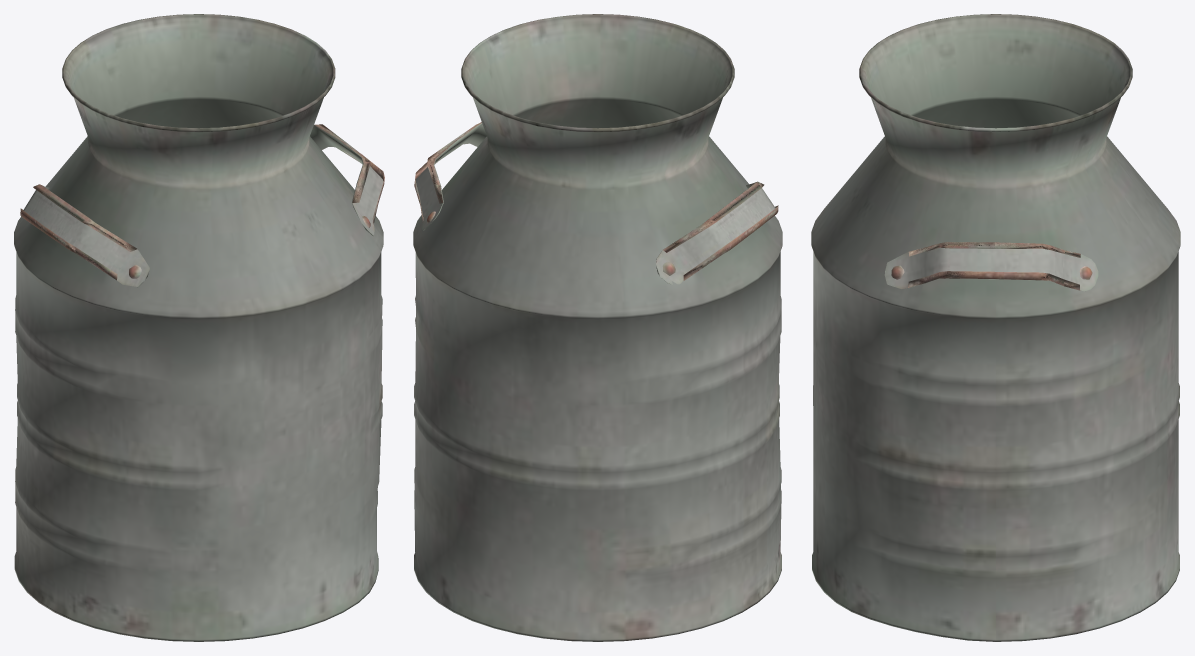
Rendered from metal_jug.glb.
3 renders of one model, left to right at view 1: azimuth 30°, elevation 25°; view 2: azimuth 150°, elevation 25°; view 3: azimuth 270°, elevation 25°, orthographic.
Visible parts, largest first — view 1: metal_jug; view 2: metal_jug; view 3: metal_jug.
Boxes of the visible parts, x1=… form: metal_jug: x1=14, y1=14, x2=384, y2=641; metal_jug: x1=413, y1=14, x2=782, y2=641; metal_jug: x1=811, y1=14, x2=1180, y2=641.
Size of the model in its own units: 0.1968 by 0.2875 by 0.1955.
Materials: 1 (1 with a texture image).
